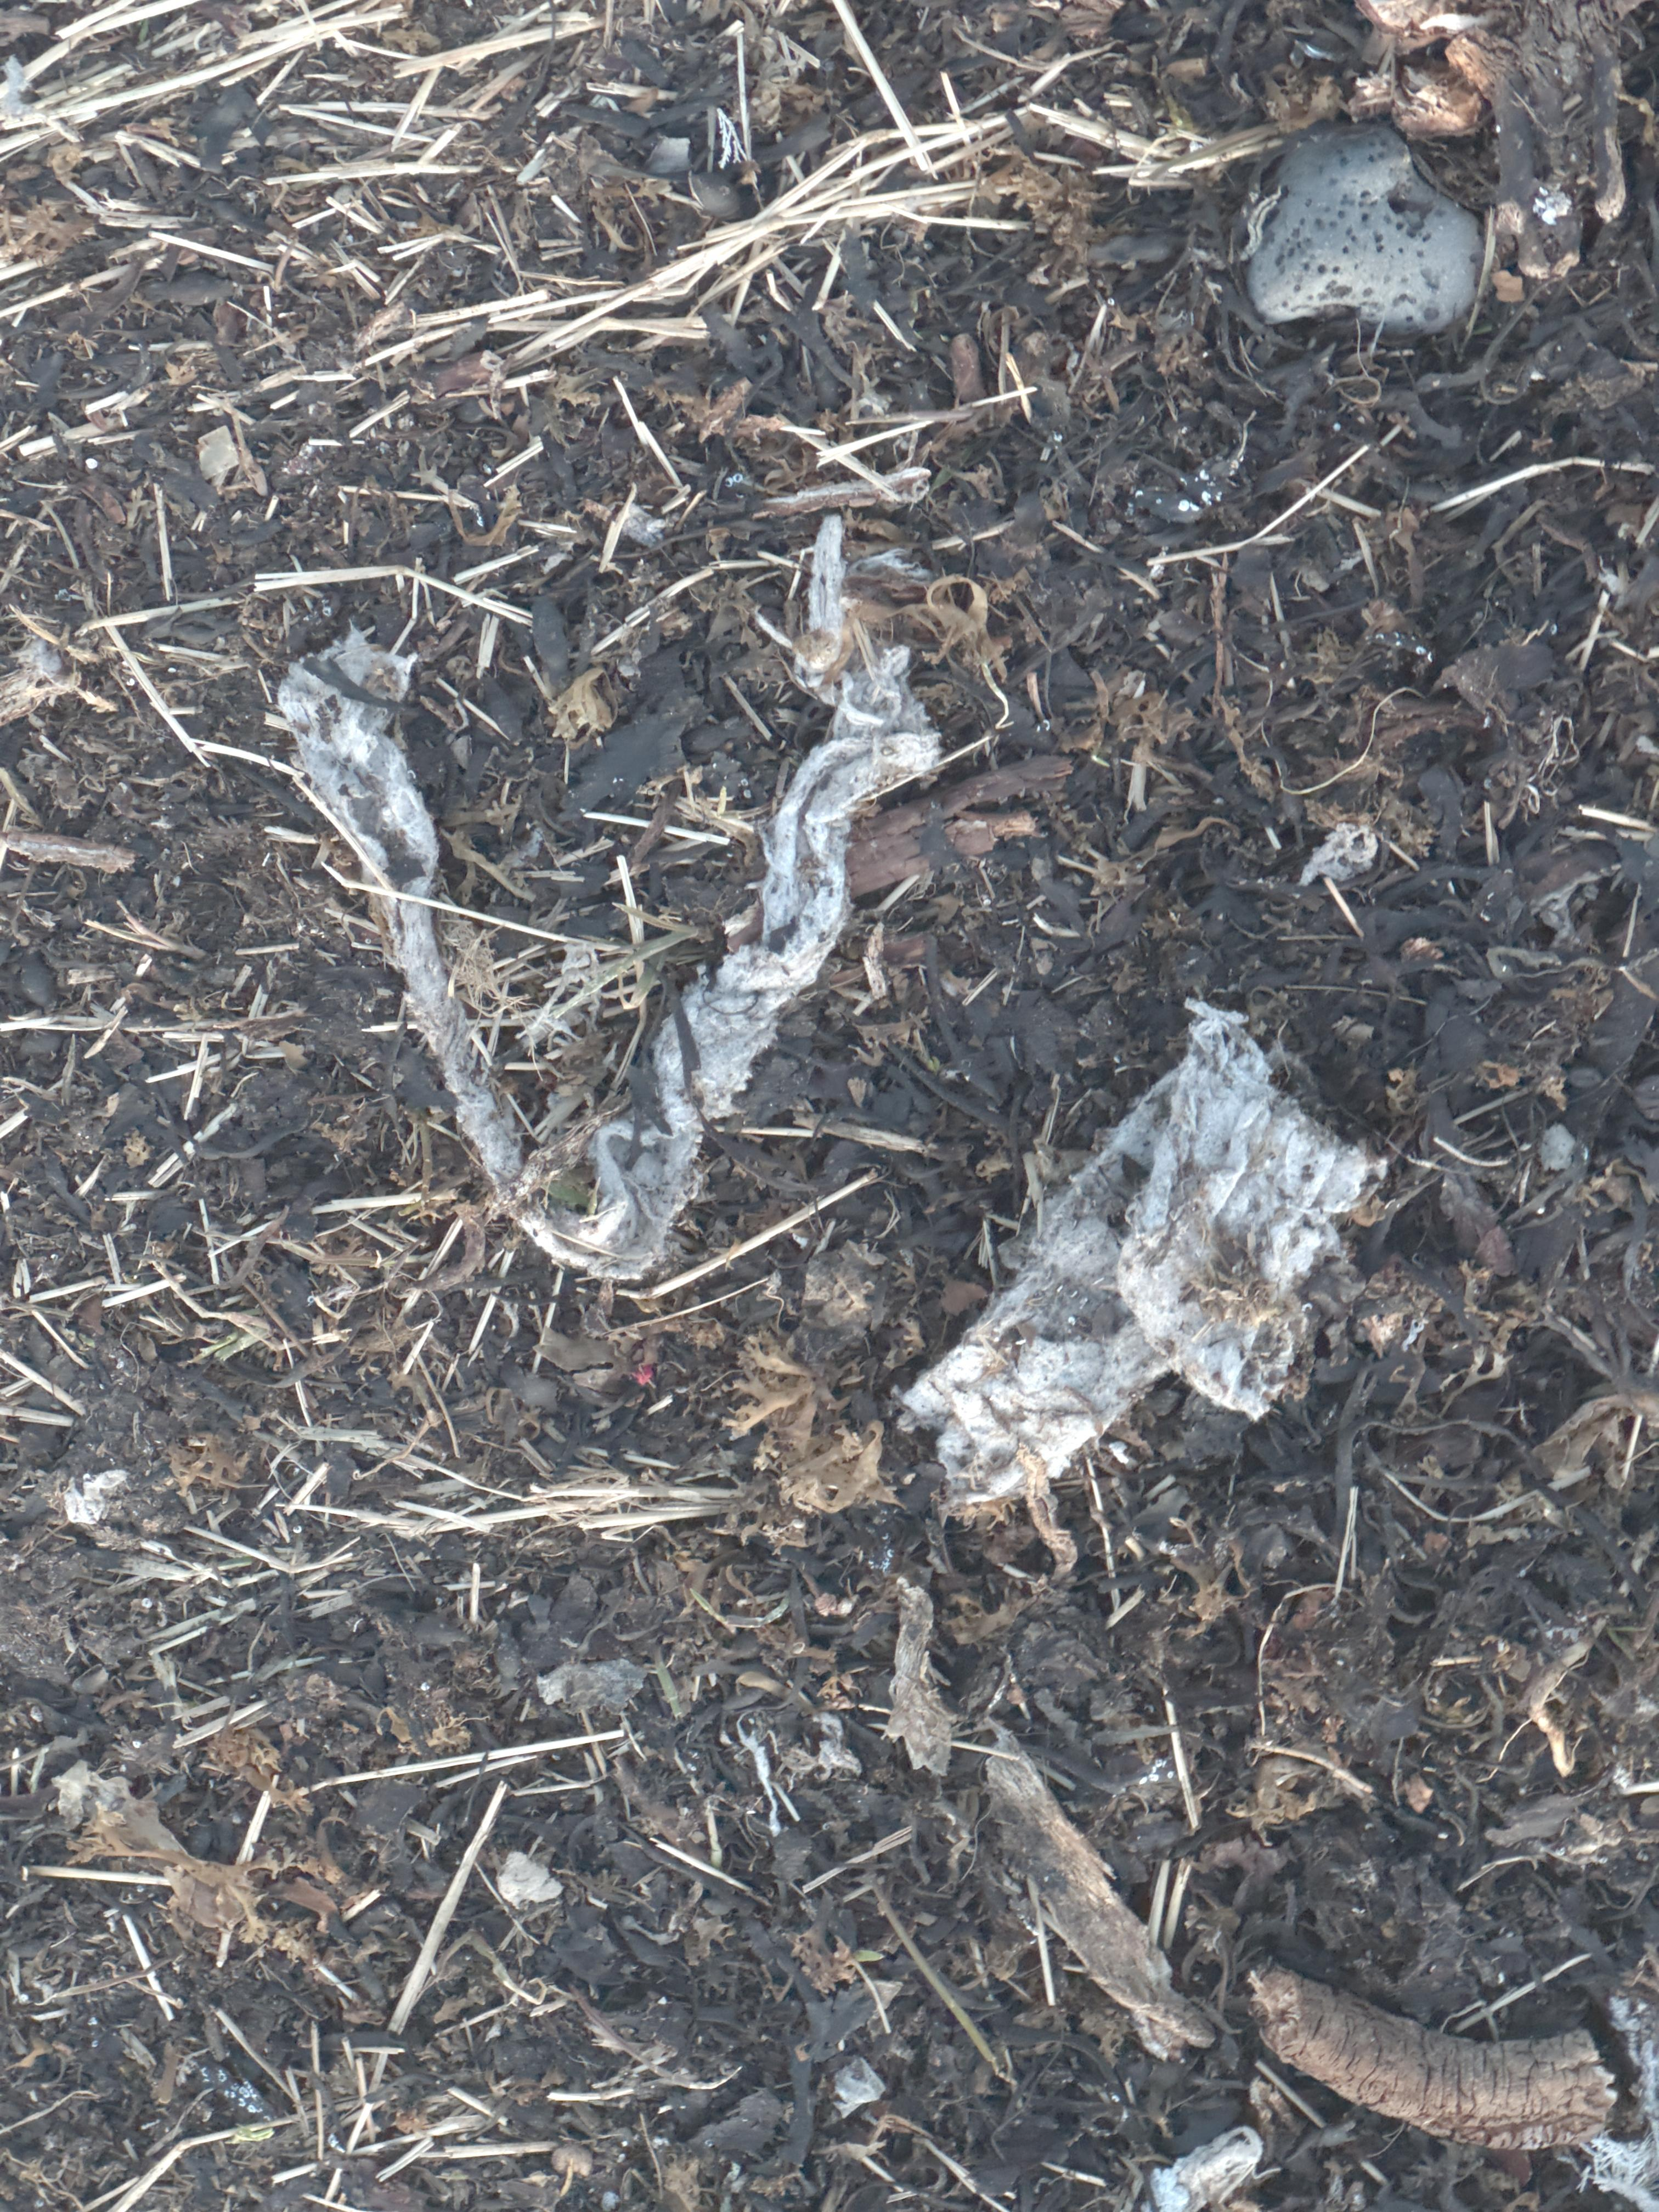trash: (277, 519, 938, 1278), (903, 1001, 1382, 1512)
